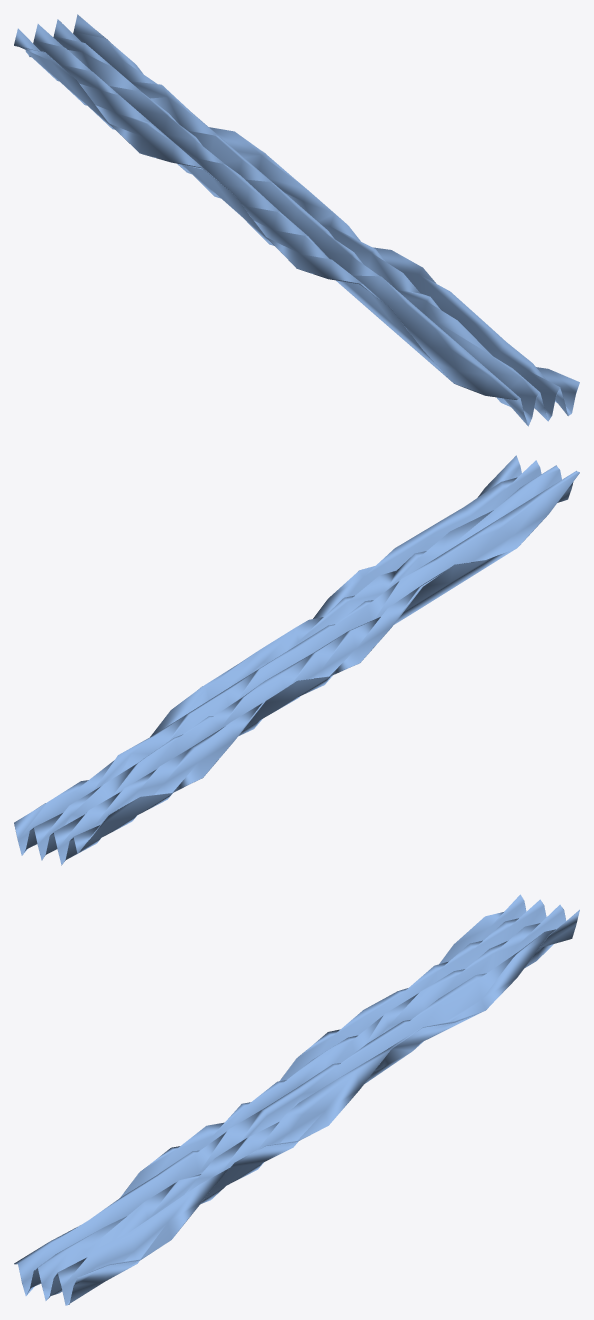
File: fence11.fbx
The picture shows the model from 3 angles, top to bottom: view 1: azimuth 30°, elevation 25°; view 2: azimuth 150°, elevation 25°; view 3: azimuth 330°, elevation 25°; orthographic projection.
Parts seen in each view (by area): view 1: Cube.024; view 2: Cube.024; view 3: Cube.024.
Part boxes in pixels (x1,y1,x2,y2): Cube.024: [14, 14, 579, 426]; Cube.024: [14, 455, 579, 865]; Cube.024: [14, 894, 579, 1305].
Bounding box in the file's own units: 2002 × 1032 × 27400.
